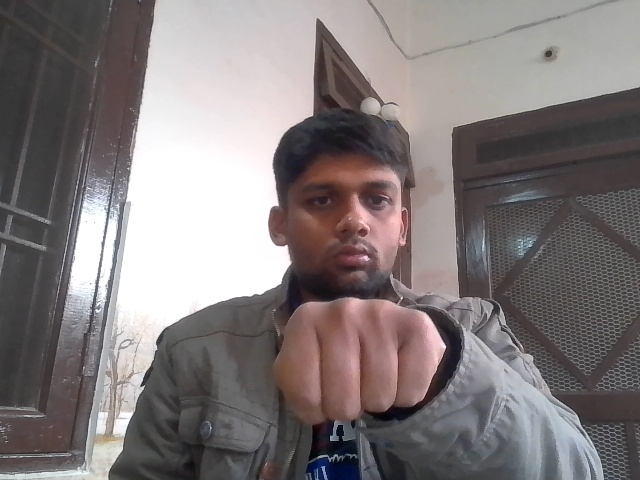Yes: (265, 282, 450, 435)
